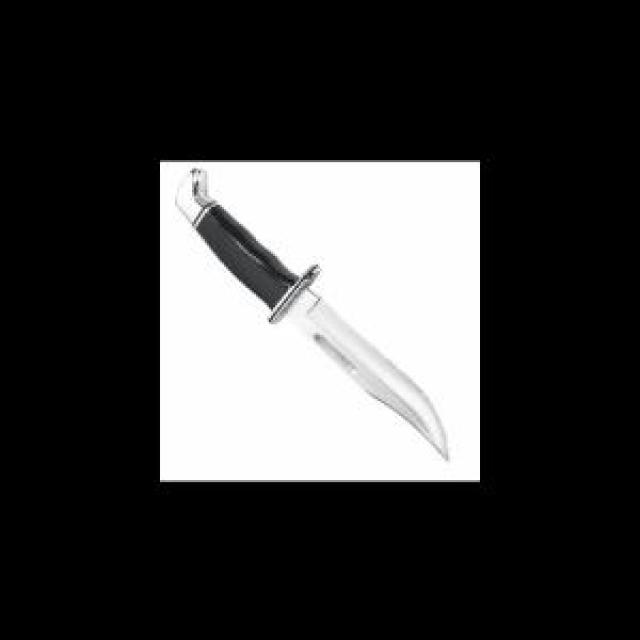knife: (173, 167, 455, 470)
